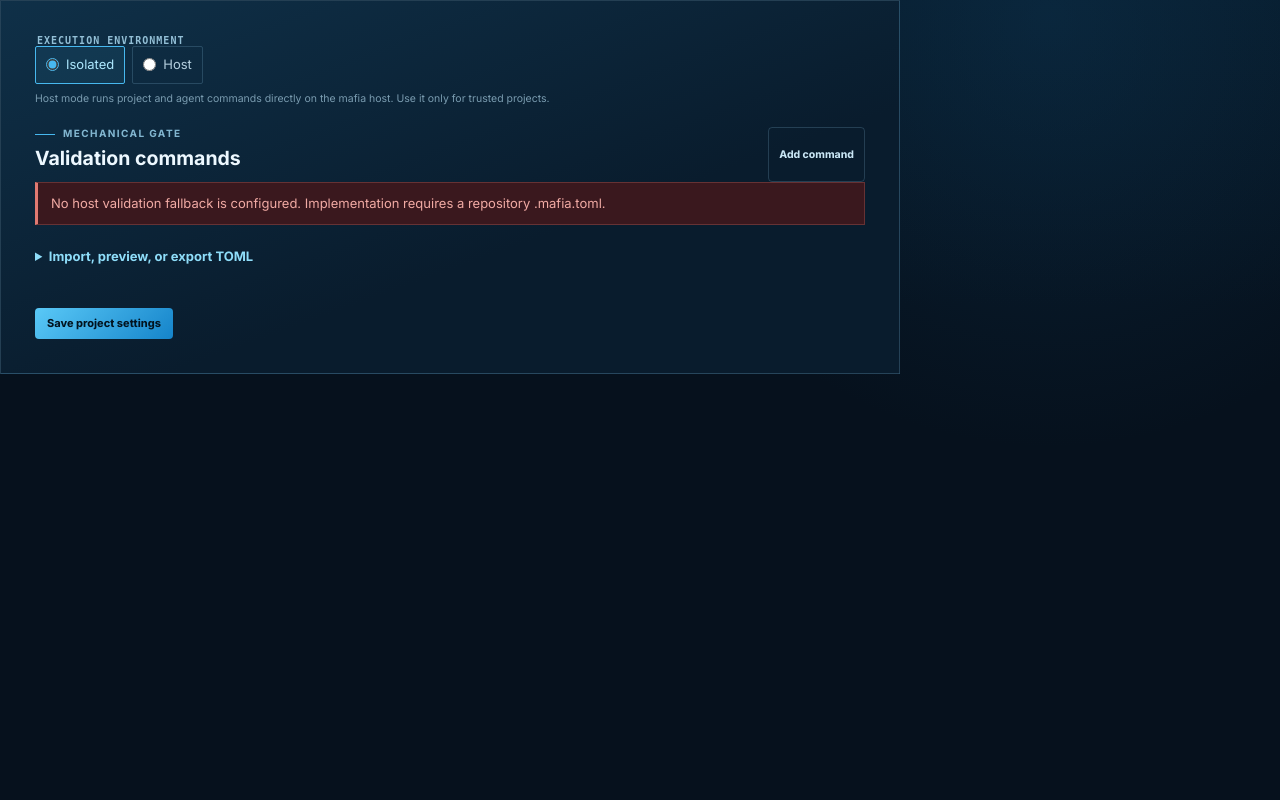
Test: ProjectSettingsForm › rejects timeout 1.5 before submission
Click the button "Add command" at [817, 154], box [768, 127, 865, 182]
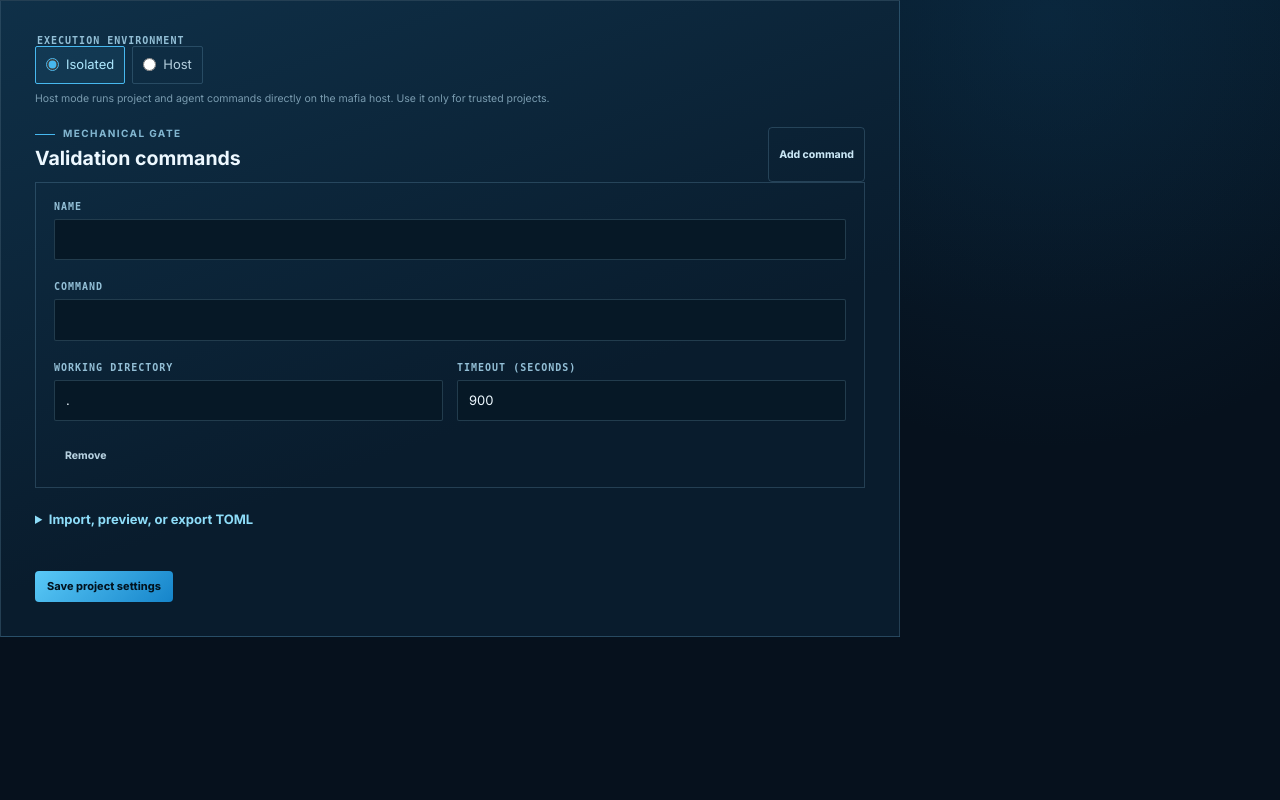
Replace the text in the number field labelled "Timeout (seconds)" with "1.5" at [652, 400], box [457, 380, 846, 421]
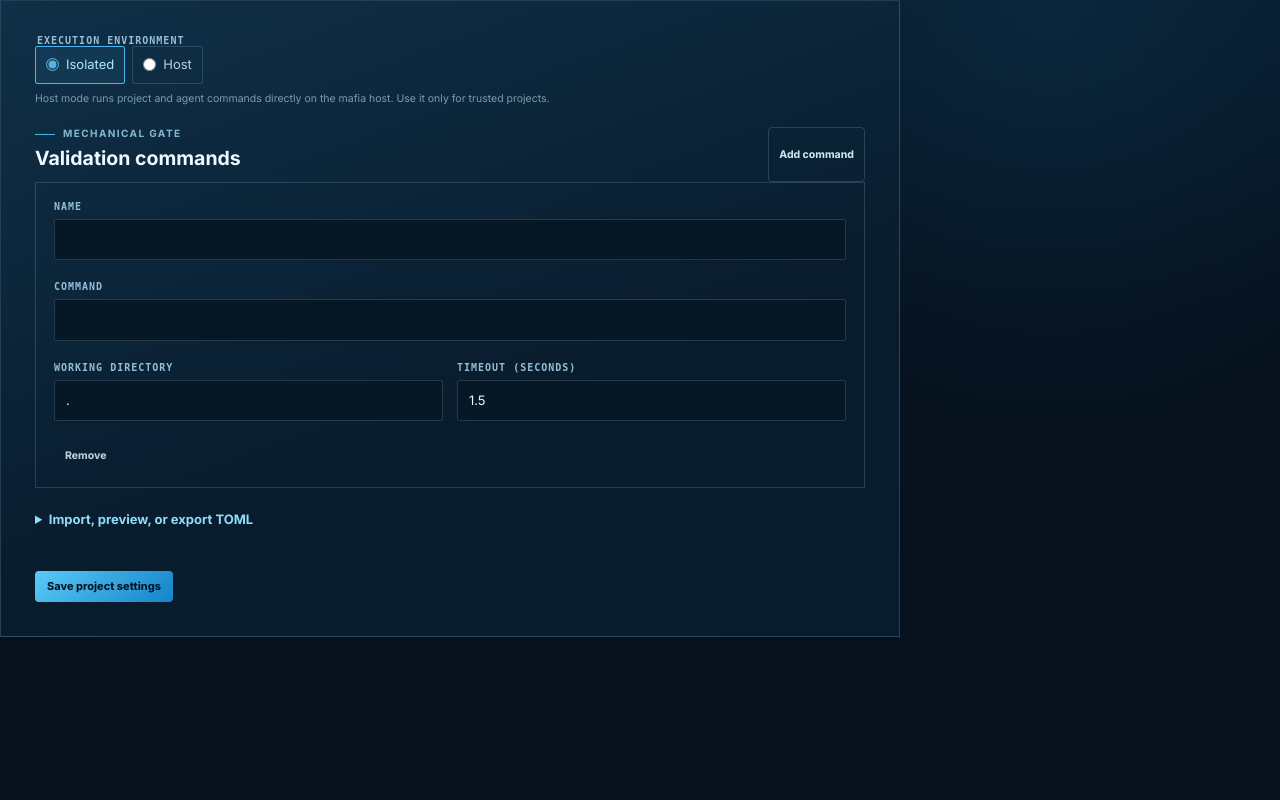
Click the button "Save project settings" at [104, 586], box [35, 570, 173, 602]
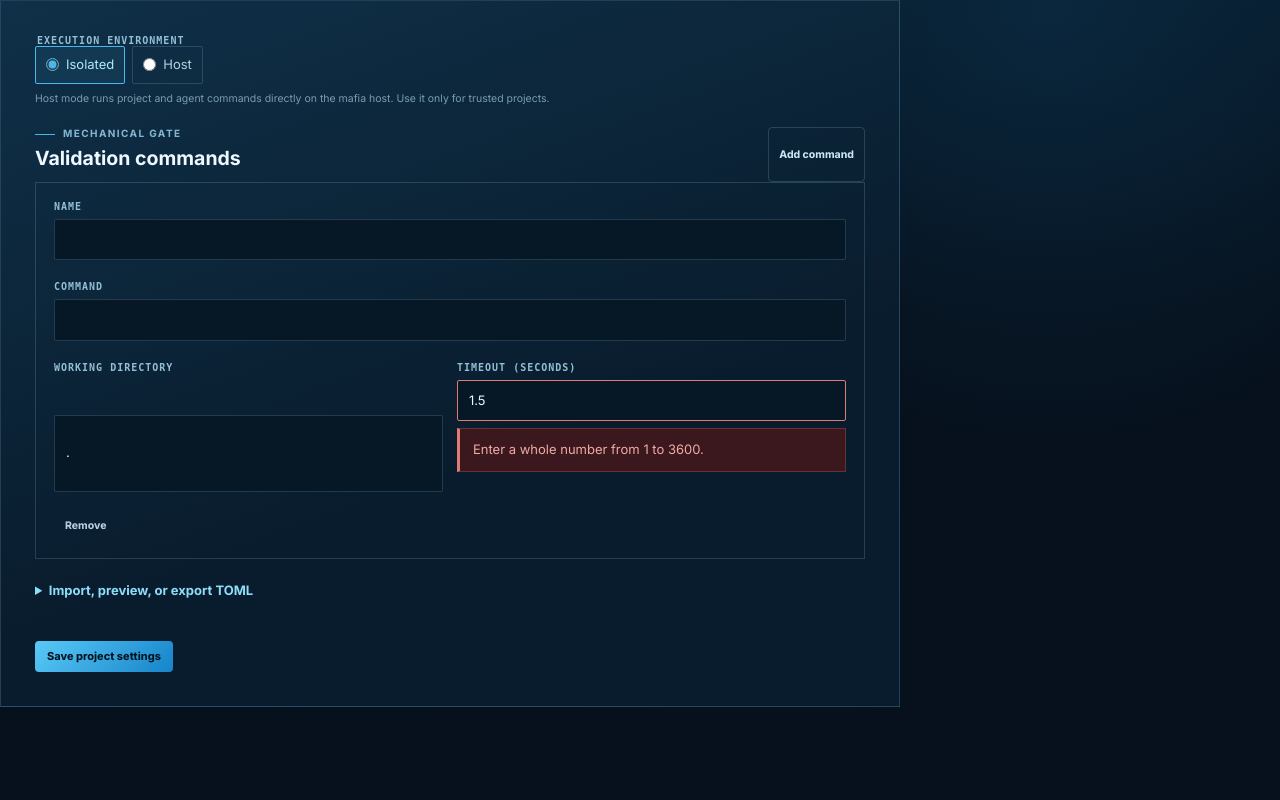
Check: the message shows "whole number from 1 to 3600", box [473, 441, 704, 457]
